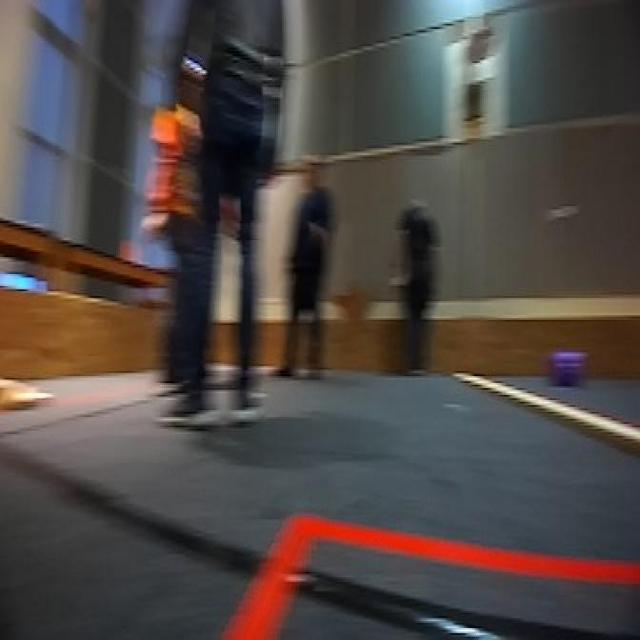frc_cube: (548, 351, 586, 393)
